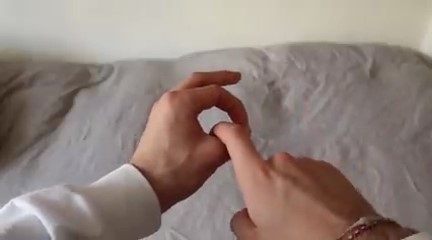Q: (127, 60, 417, 240)
